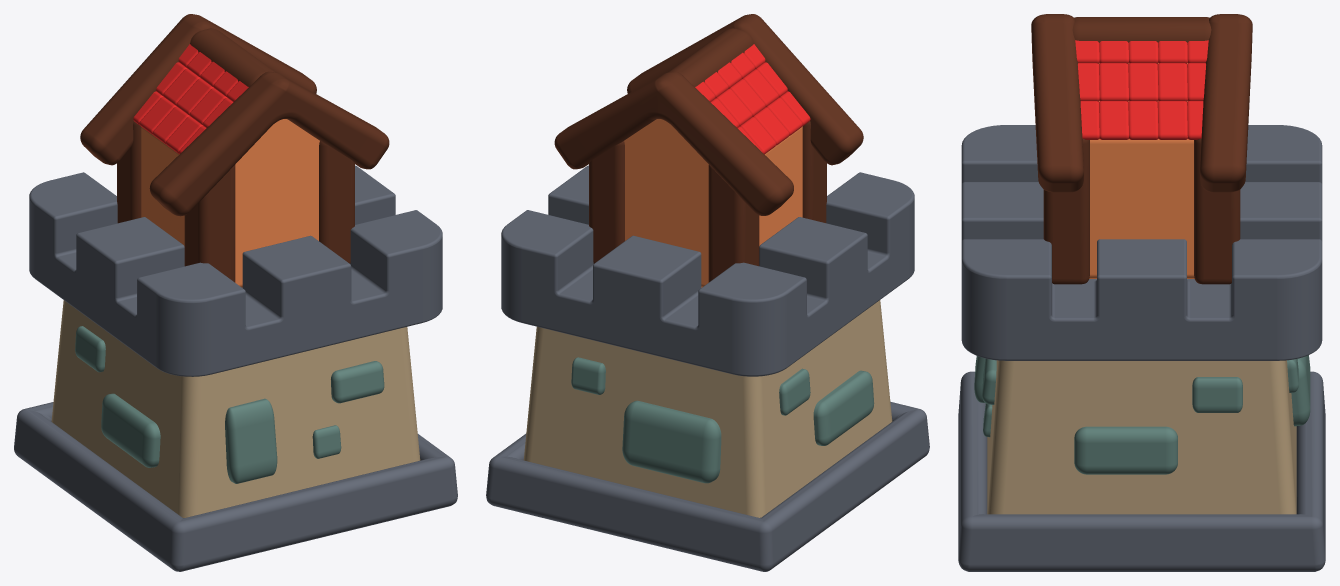
The model's file is TowerFinal 3.fbx.
3 renders of one model, left to right at view 1: azimuth 30°, elevation 25°; view 2: azimuth 150°, elevation 25°; view 3: azimuth 270°, elevation 25°, orthographic. The views are drawn at different scales.
Parts seen in each view (by area): view 1: Plane.001, Plane, Plane.002, Plane.004, Plane.003, Cube, Plane.005, Cube.005, Cube.008, Cube.001, Cube.004, Cube.007 (+1 smaller); view 2: Plane.001, Plane, Plane.002, Plane.004, Plane.003, Cube, Cube.010, Plane.005, Cube.008, Cube.001, Cube.009, Cube.007; view 3: Plane.001, Plane, Plane.002, Plane.004, Plane.005, Plane.003, Cube, Cube.002, Cube.001, Cube.003, Cube.010, Cube.004.
Part boxes in pixels (box(x1,y1,x2,y2)): Plane.001: box(29, 165, 442, 376); Plane: box(51, 300, 420, 517); Plane.002: box(14, 402, 457, 571); Plane.004: box(80, 14, 389, 216); Plane.003: box(141, 119, 319, 287); Cube: box(117, 121, 354, 282); Plane.005: box(133, 44, 248, 154); Cube.005: box(225, 398, 277, 483); Cube.008: box(101, 393, 160, 467); Cube.001: box(190, 28, 275, 86); Cube.004: box(331, 361, 384, 403); Cube.007: box(75, 326, 105, 372); Plane.001: box(501, 165, 914, 376); Plane: box(523, 300, 892, 517); Plane.002: box(486, 401, 929, 571); Plane.004: box(554, 14, 863, 215); Plane.003: box(624, 119, 802, 287); Cube: box(589, 121, 826, 282); Cube.010: box(622, 400, 721, 483); Plane.005: box(695, 44, 810, 154); Cube.008: box(813, 370, 874, 445); Cube.001: box(668, 28, 753, 86); Cube.009: box(571, 357, 605, 394); Cube.007: box(779, 368, 810, 415); Plane.001: box(961, 125, 1322, 360); Plane: box(987, 360, 1296, 514); Plane.002: box(958, 371, 1325, 571); Plane.004: box(1031, 14, 1252, 192); Plane.005: box(1075, 40, 1208, 139); Plane.003: box(1089, 63, 1194, 278); Cube: box(1043, 138, 1240, 284); Cube.002: box(1074, 426, 1177, 474); Cube.001: box(1072, 17, 1211, 42); Cube.003: box(1192, 377, 1242, 412); Cube.010: box(1291, 355, 1310, 426); Cube.004: box(982, 358, 996, 404).
Bounding box in the file's own units: 233 × 339 × 233.
